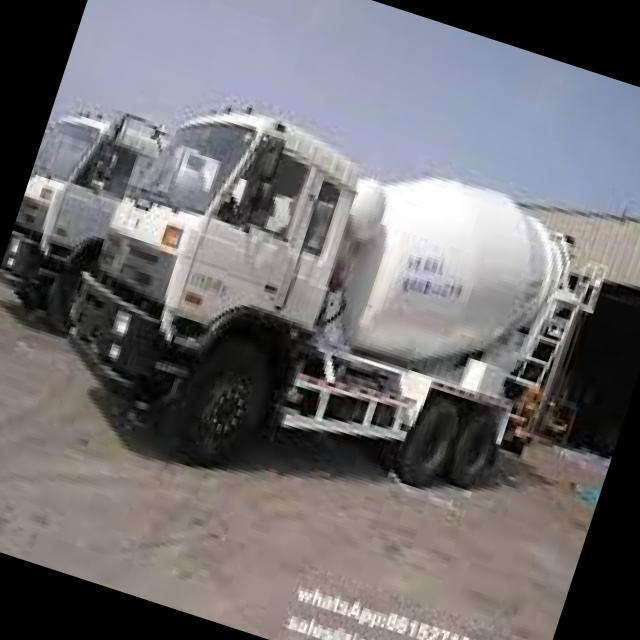Mixer Truck: (32, 63, 626, 570), (0, 84, 231, 368)
